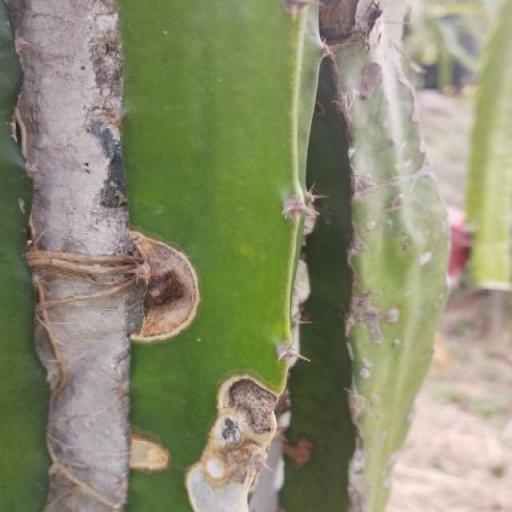stemcanker: (376, 168, 392, 200), (426, 303, 440, 327), (444, 266, 454, 294), (407, 311, 417, 330), (387, 150, 401, 163), (388, 326, 398, 343), (370, 318, 380, 334), (406, 214, 416, 228), (396, 133, 404, 149)
